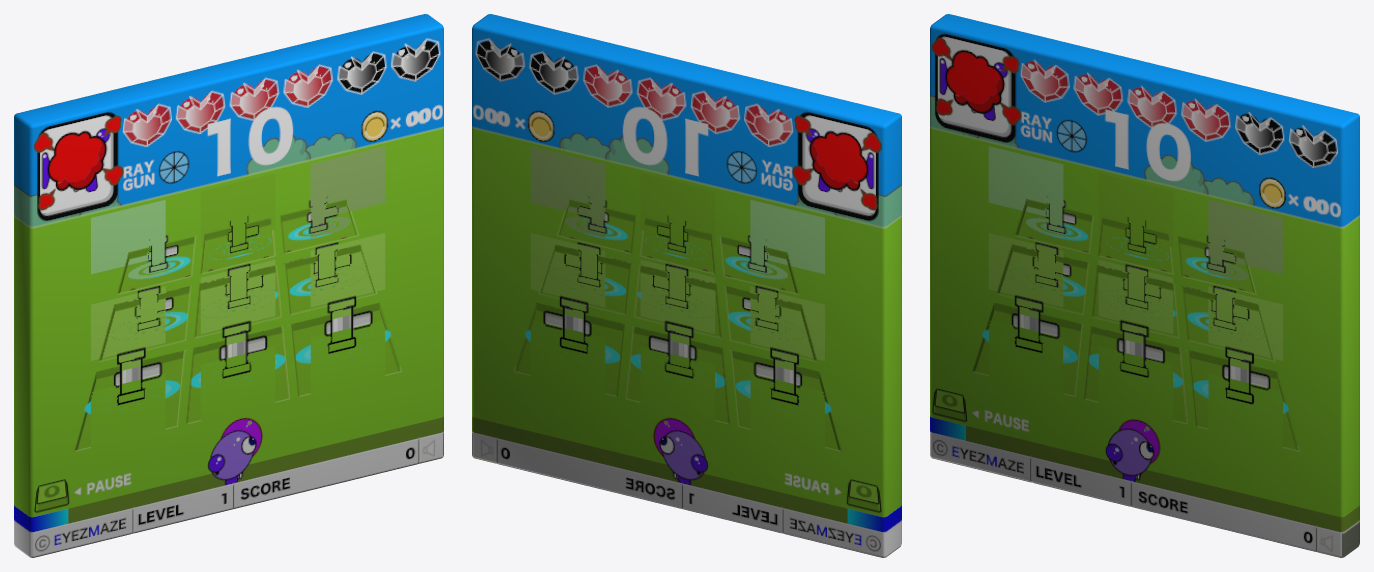
File: board.glb
3 views of the same model, side by side, from view 1: azimuth 30°, elevation 25°; view 2: azimuth 150°, elevation 25°; view 3: azimuth 330°, elevation 25° (orthographic).
Parts seen in each view (by area): view 1: board-gameplay-clean; view 2: board-gameplay-clean; view 3: board-gameplay-clean.
Part boxes in pixels (x1,y1,x2,y2): board-gameplay-clean: [14, 14, 443, 557]; board-gameplay-clean: [472, 14, 901, 557]; board-gameplay-clean: [930, 14, 1359, 557].
Size of the model in its own units: 4.2 by 4.2 by 0.32.
Materials: 1 (1 with a texture image).
